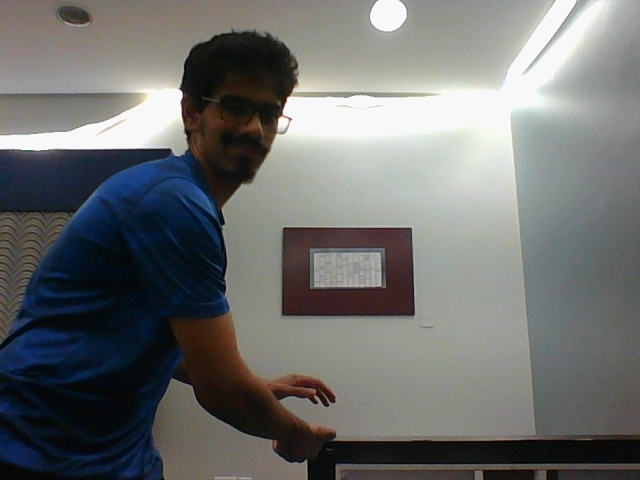charge: (266, 367, 341, 465)
